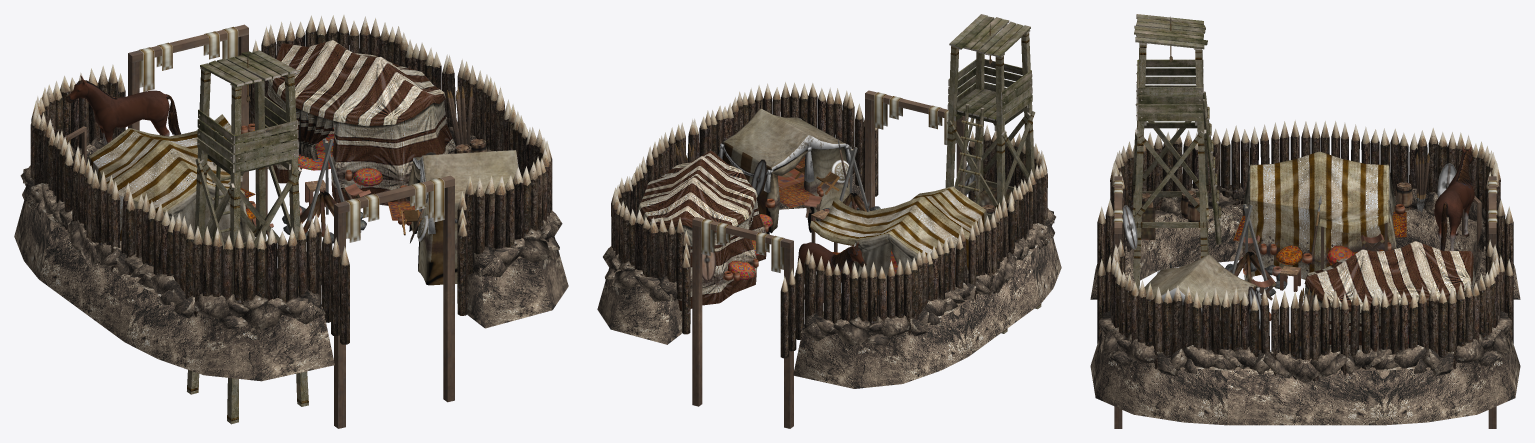
File: s_ptolemies_settlement.glb
3 views of the same model, side by side, from view 1: azimuth 30°, elevation 25°; view 2: azimuth 150°, elevation 25°; view 3: azimuth 270°, elevation 25° (orthographic). The views are drawn at different scales.
Parts seen in each view (by area): view 1: s_ptolemies_settlement_part0, s_ptolemies_settlement_part7, s_ptolemies_settlement_part4, s_ptolemies_settlement_part3, s_ptolemies_settlement_part6, s_ptolemies_settlement_part5, s_ptolemies_settlement_part8, s_ptolemies_settlement_part2; view 2: s_ptolemies_settlement_part0, s_ptolemies_settlement_part4, s_ptolemies_settlement_part3, s_ptolemies_settlement_part7, s_ptolemies_settlement_part6, s_ptolemies_settlement_part5, s_ptolemies_settlement_part8; view 3: s_ptolemies_settlement_part0, s_ptolemies_settlement_part6, s_ptolemies_settlement_part4, s_ptolemies_settlement_part7, s_ptolemies_settlement_part3, s_ptolemies_settlement_part5, s_ptolemies_settlement_part8, s_ptolemies_settlement_part2, s_ptolemies_settlement_part9.
Part boxes in pixels (box(x1,y1,x2,y2)): s_ptolemies_settlement_part0: box(14, 15, 568, 381); s_ptolemies_settlement_part7: box(241, 40, 455, 205); s_ptolemies_settlement_part4: box(187, 50, 308, 424); s_ptolemies_settlement_part3: box(63, 24, 487, 428); s_ptolemies_settlement_part6: box(88, 114, 255, 245); s_ptolemies_settlement_part5: box(398, 150, 518, 285); s_ptolemies_settlement_part8: box(66, 75, 169, 145); s_ptolemies_settlement_part2: box(282, 191, 366, 243); s_ptolemies_settlement_part0: box(597, 82, 1061, 388); s_ptolemies_settlement_part4: box(945, 14, 1041, 333); s_ptolemies_settlement_part3: box(675, 90, 1017, 428); s_ptolemies_settlement_part7: box(638, 151, 772, 311); s_ptolemies_settlement_part6: box(810, 186, 986, 295); s_ptolemies_settlement_part5: box(718, 108, 851, 234); s_ptolemies_settlement_part8: box(798, 242, 866, 299); s_ptolemies_settlement_part0: box(1090, 120, 1520, 425); s_ptolemies_settlement_part6: box(1233, 151, 1406, 281); s_ptolemies_settlement_part4: box(1132, 14, 1221, 292); s_ptolemies_settlement_part7: box(1299, 241, 1475, 357); s_ptolemies_settlement_part3: box(1113, 152, 1497, 428); s_ptolemies_settlement_part5: box(1144, 254, 1271, 349); s_ptolemies_settlement_part8: box(1434, 145, 1474, 250); s_ptolemies_settlement_part2: box(1225, 252, 1287, 296); s_ptolemies_settlement_part9: box(1440, 149, 1472, 250).
Bounding box in the file's own units: 4 × 3.36 × 3.92.
10 materials, 10 textured.
